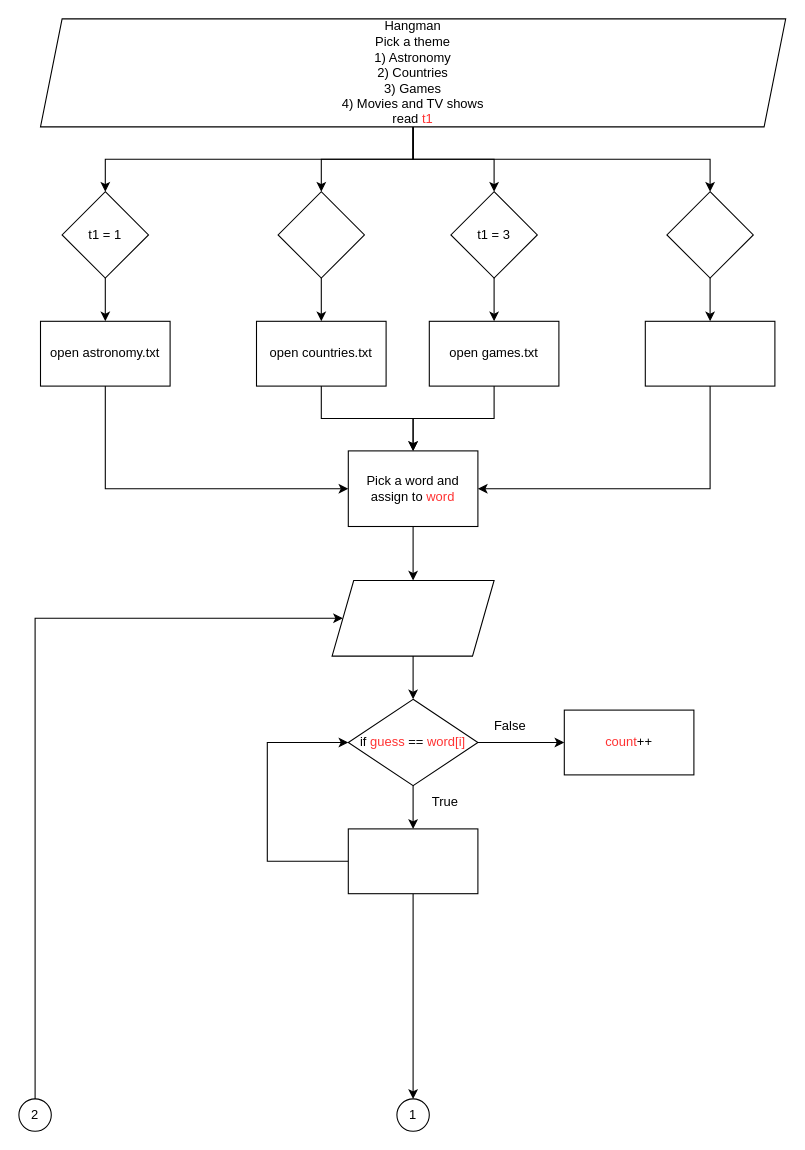
The diagram is 805 pixels wide and 1150 high, and some of its shapes have lost their labels. Each missing label, with the centre of its shape:
"Assign ans[ i ] = guess" belongs at [412,861].
"open movies_and_shows.txt" belongs at [709,353].
"read guess" belongs at [412,617].
"t1 = 2" belongs at [320,234].
"t1 = 4" belongs at [709,234].
